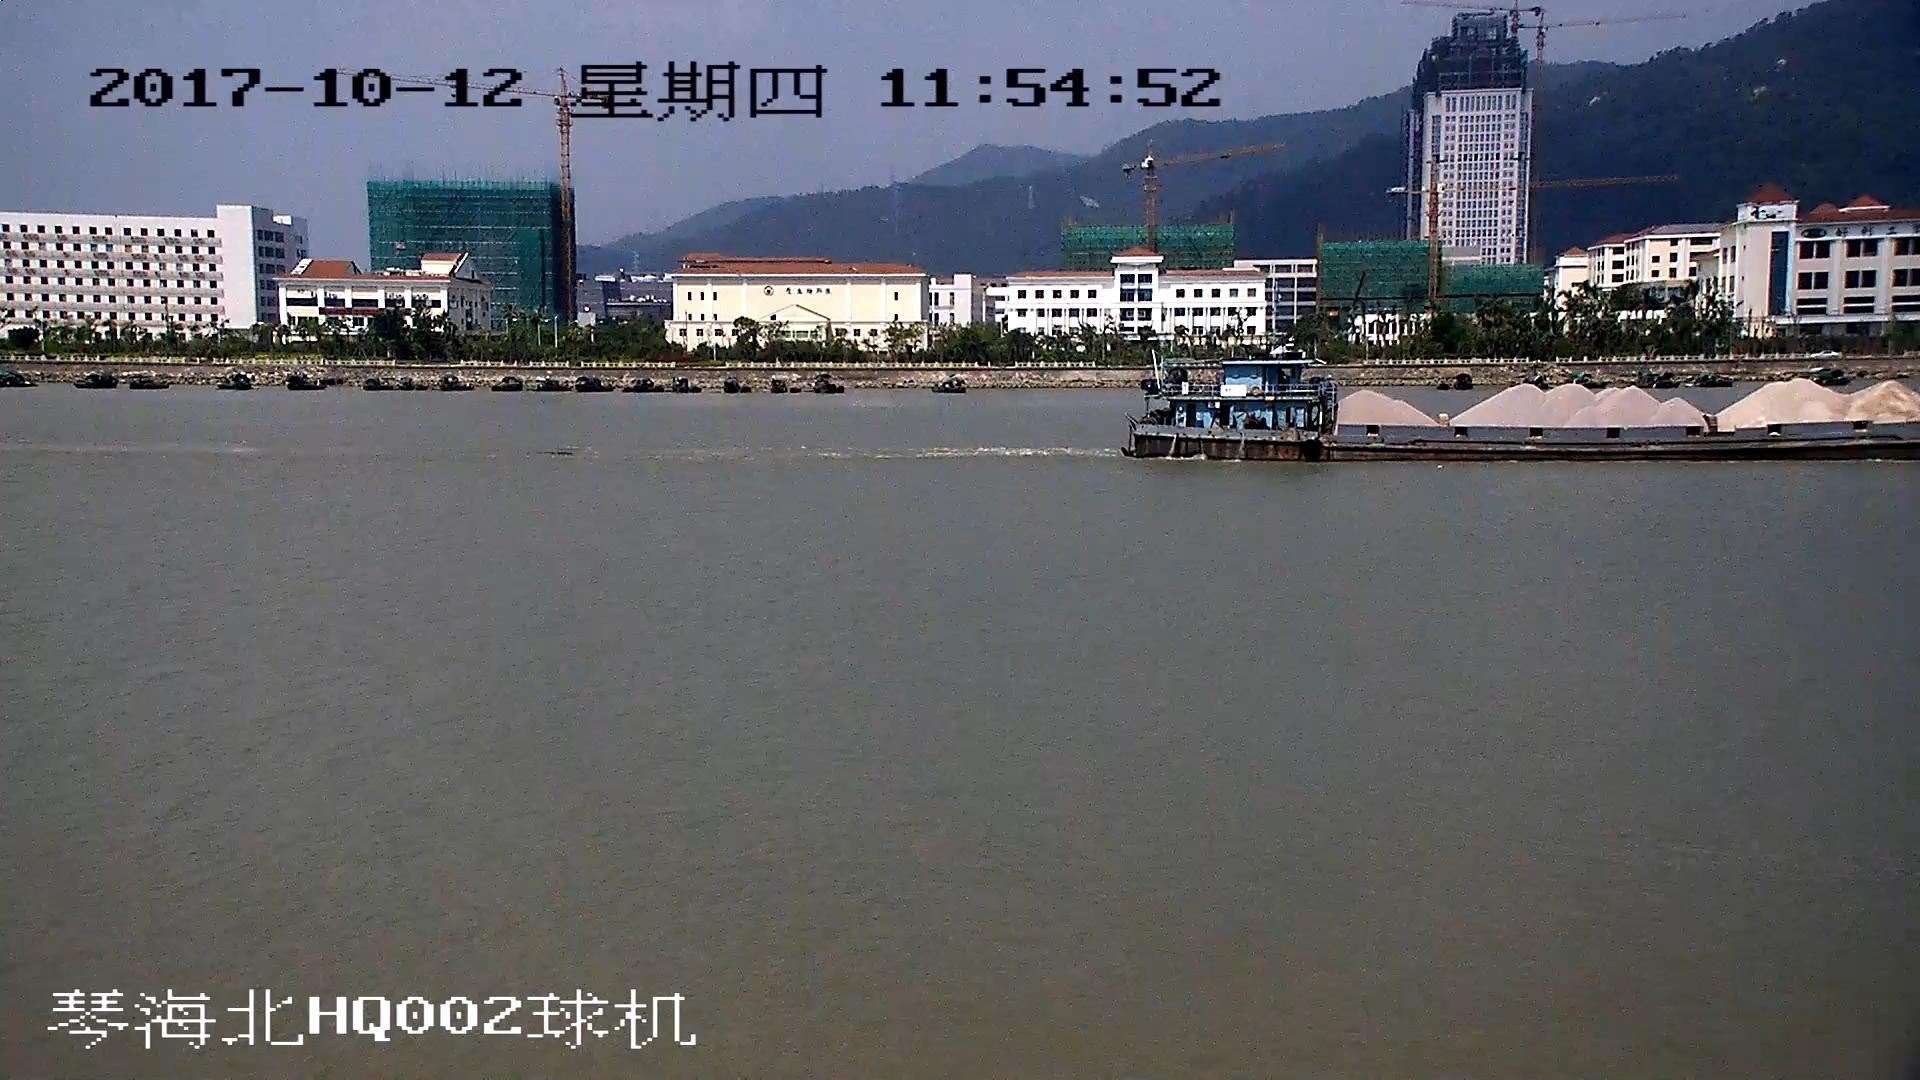Ship: (1126, 356, 1920, 465)
